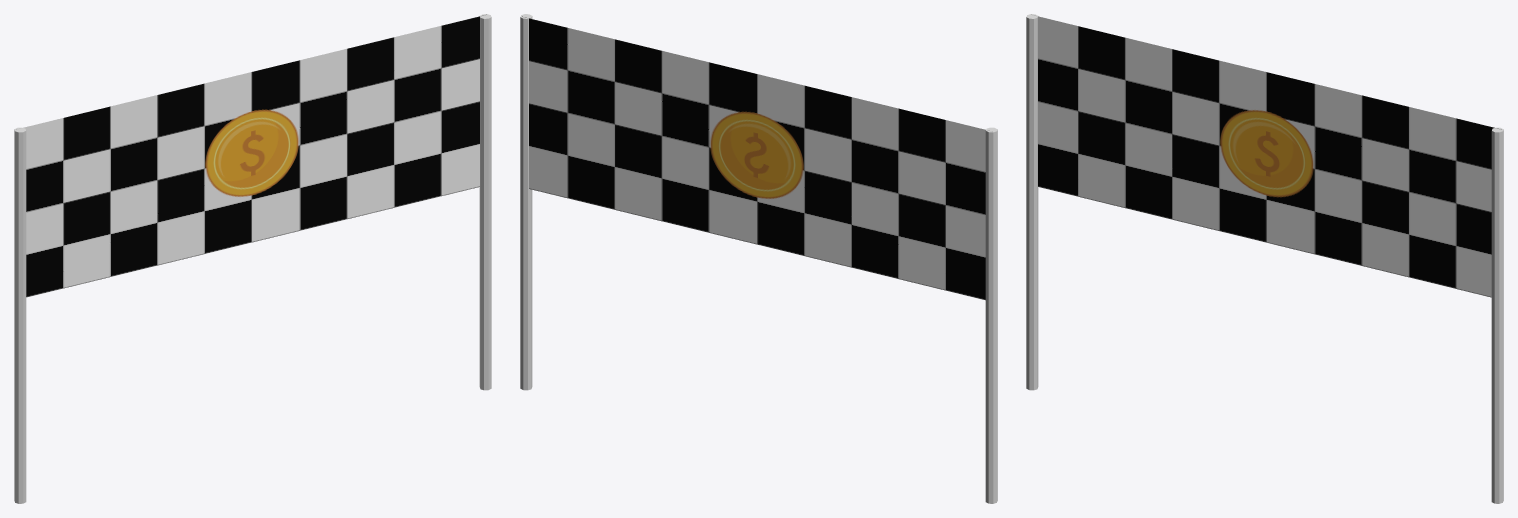
Rendered from Flag.fbx.
3 views of the same model, side by side, from view 1: azimuth 30°, elevation 25°; view 2: azimuth 150°, elevation 25°; view 3: azimuth 330°, elevation 25° (orthographic).
Visible parts, largest first — view 1: Flag, Cylinder.002, Cylinder.001; view 2: Flag, Cylinder.002, Cylinder.001; view 3: Flag, Cylinder.001, Cylinder.002.
Part boxes in pixels (x1,y1,x2,y2): Flag: (16,14,486,297); Cylinder.002: (14,127,26,503); Cylinder.001: (479,14,491,390); Flag: (522,16,992,300); Cylinder.002: (985,127,997,503); Cylinder.001: (520,14,532,390); Flag: (1031,14,1501,297); Cylinder.001: (1491,127,1503,503); Cylinder.002: (1026,14,1038,390).
Size of the model in its own units: 3159 by 2357 by 69.76.
